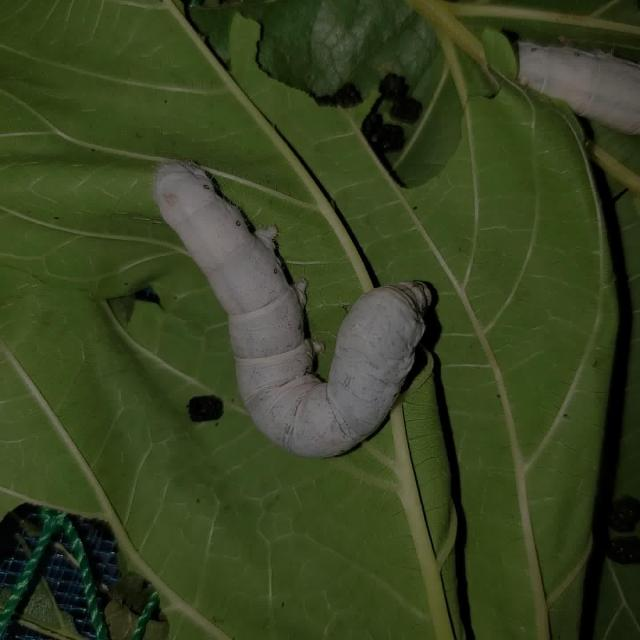Healthy: (129, 118, 462, 472)
